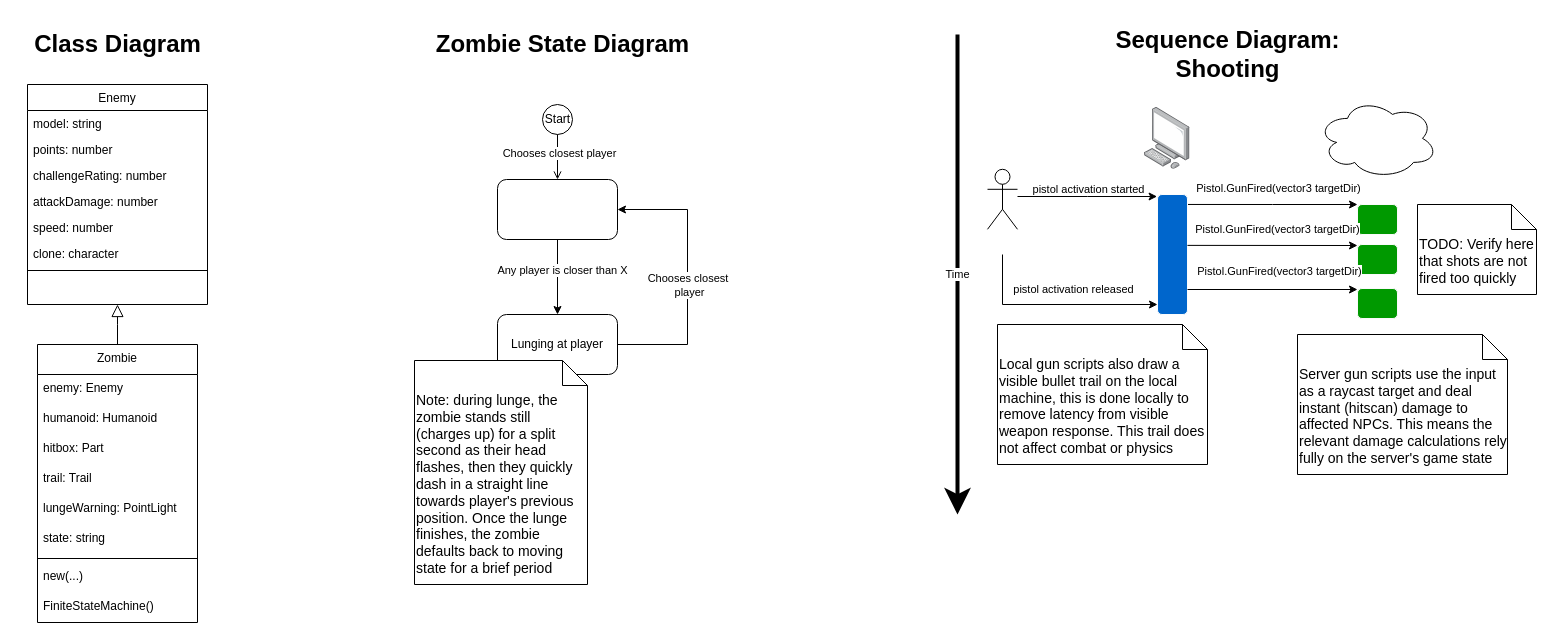
The diagram is 1554 pixels wide and 642 high, and some of its shapes have lost their labels. The shapes that lost their labels are listed below. From the top down, each one's centre as x and y in pixels, then its label:
(x=1167, y=138): LOCAL
(x=1377, y=137): SERVER
(x=557, y=209): Moving Towards Player
(x=1002, y=198): Actor
